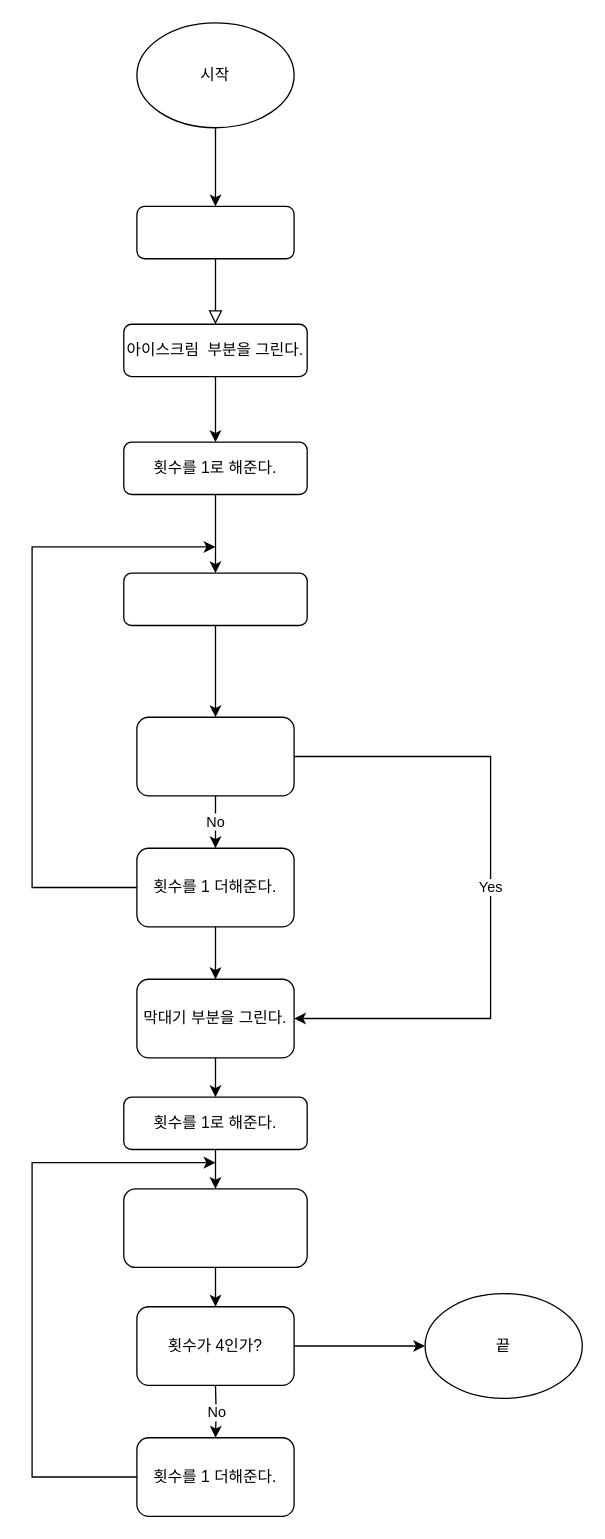
Image size: 605x1539. Some labels were removed from this diagram. Each missing label, with the centre of its shape:
" | |"을 출력한다.: point 214,1227
"***********"을 출력한다.: point 214,599
아이스크림을 그린다.: point 215,232
횟수가 7인가?: point 215,756
